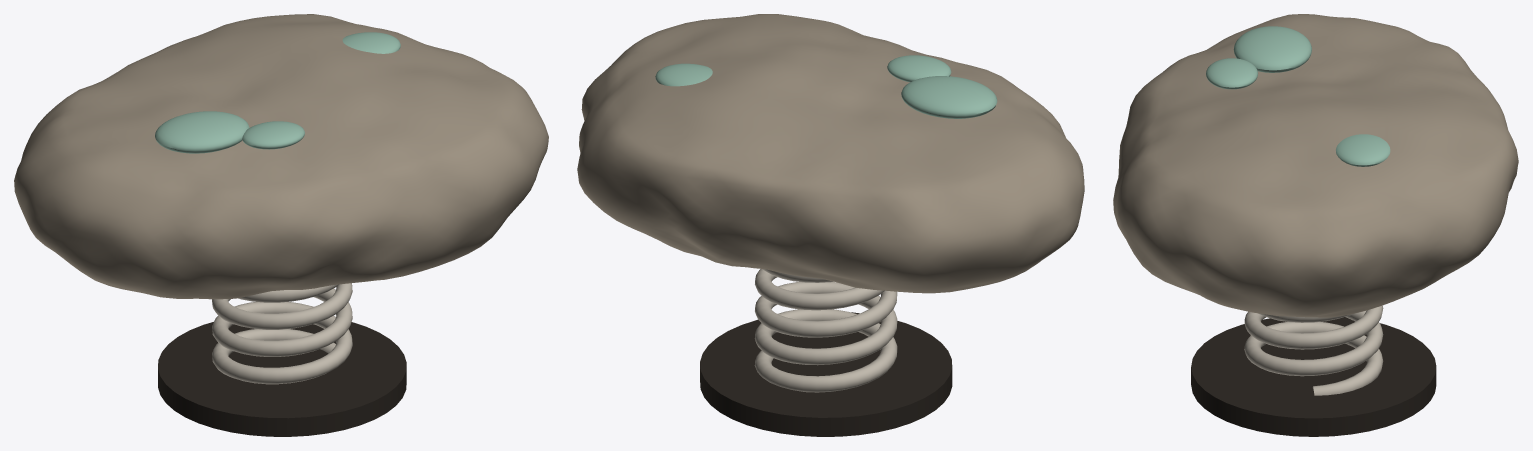
Rendered from batu.glb.
The picture shows the model from 3 angles, left to right: view 1: azimuth 30°, elevation 25°; view 2: azimuth 150°, elevation 25°; view 3: azimuth 270°, elevation 25°; orthographic projection. The views are drawn at different scales.
Parts seen in each view (by area): view 1: batu; view 2: batu; view 3: batu.
Boxes of the visible parts, <box> form: batu: <box>14,14,548,436</box>; batu: <box>577,14,1084,436</box>; batu: <box>1113,14,1518,436</box>.
Size of the model in its own units: 1 by 0.6127 by 0.7519.
